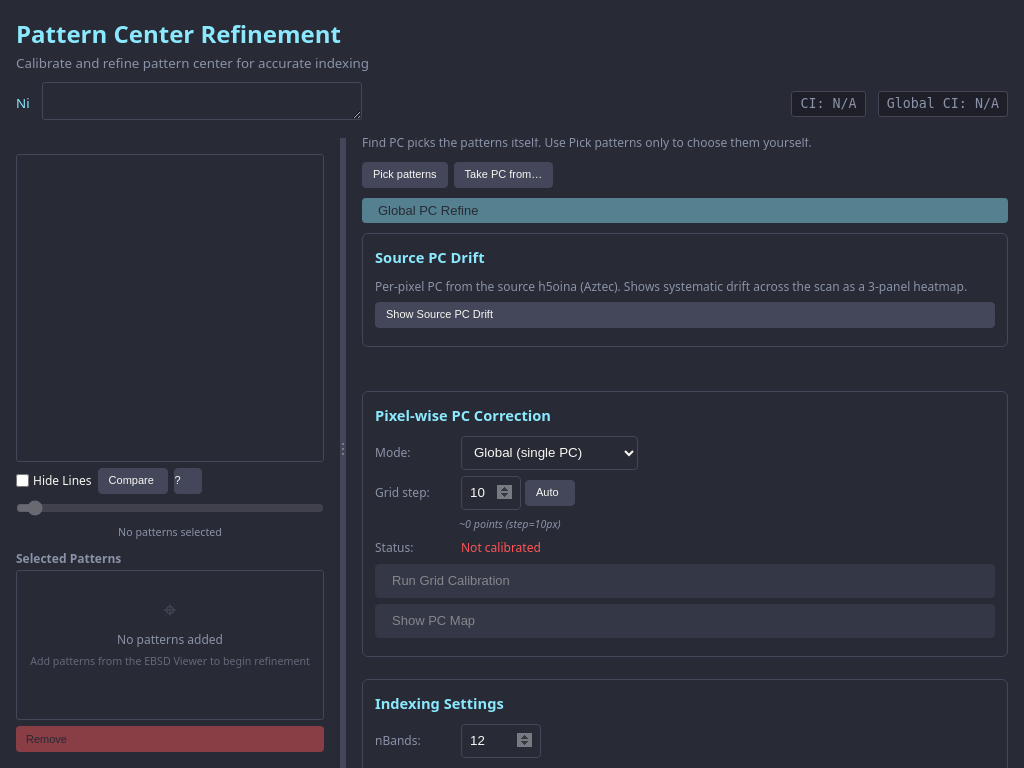
Test: Extrapolate from Points › shows the translated refusal, not the English prose
(page scrolled)
Select "Extrapolate from Points" in the dropdown titled "PC correction mode": (550, 453) [461,436,638,470]
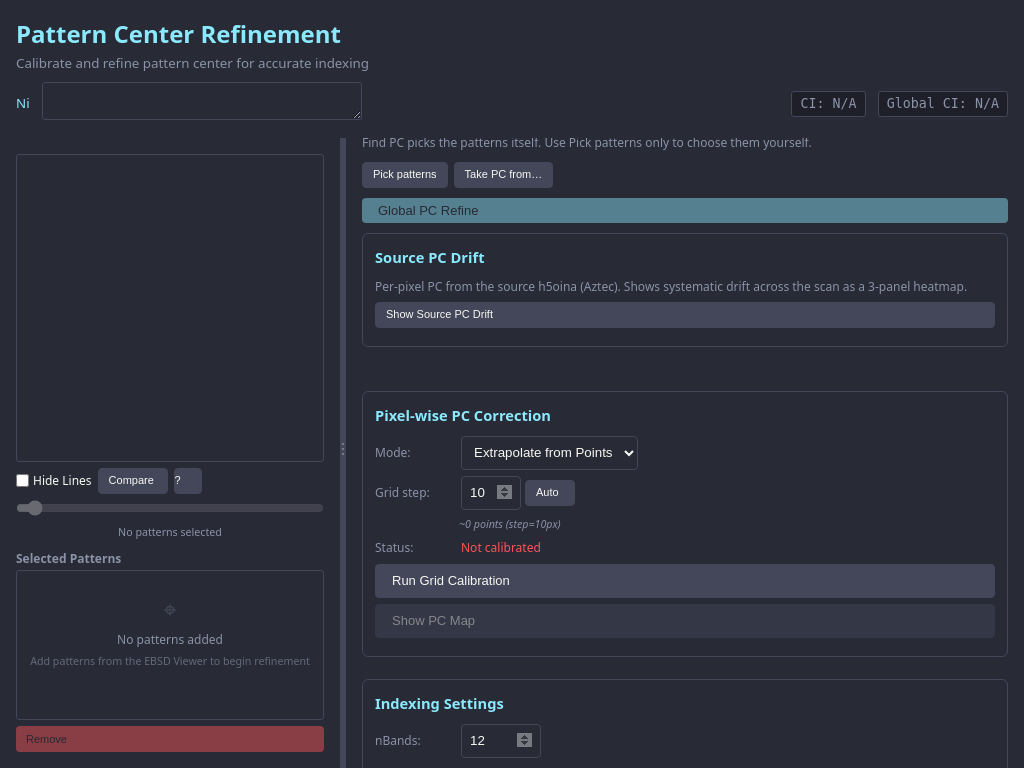
Click the button "Run Grid Calibration": (451, 581) [375,564,995,598]
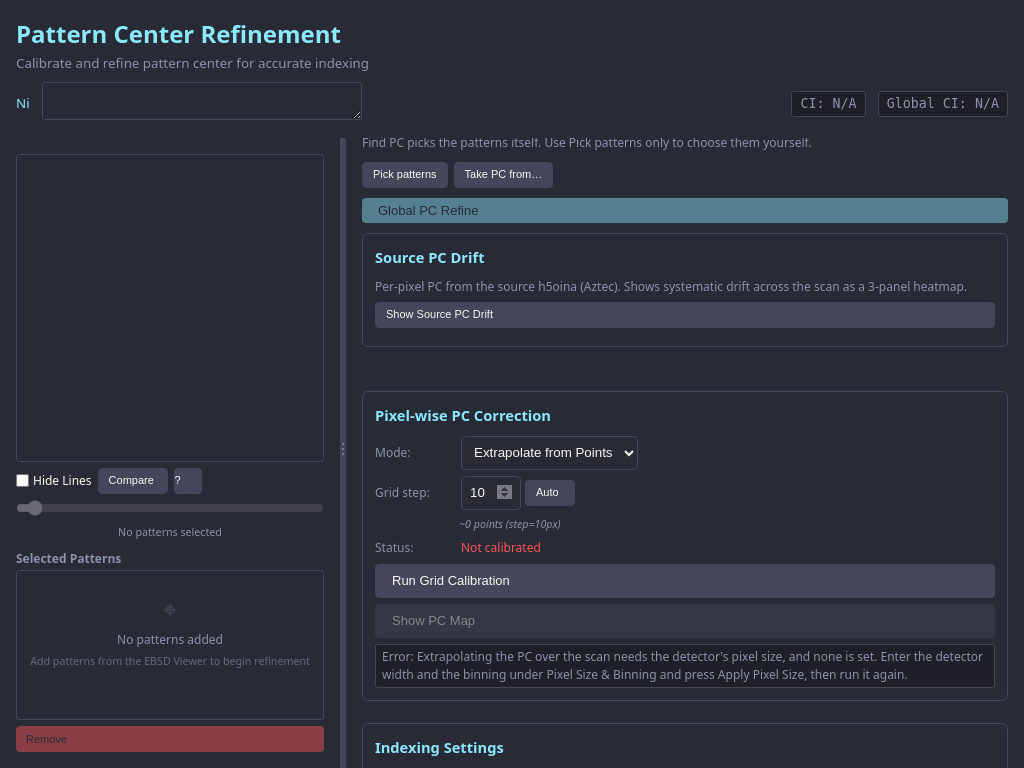
Check: the text "needs the detector's pixel size" shows "Apply Pixel Size", box [382,648,983,683]
